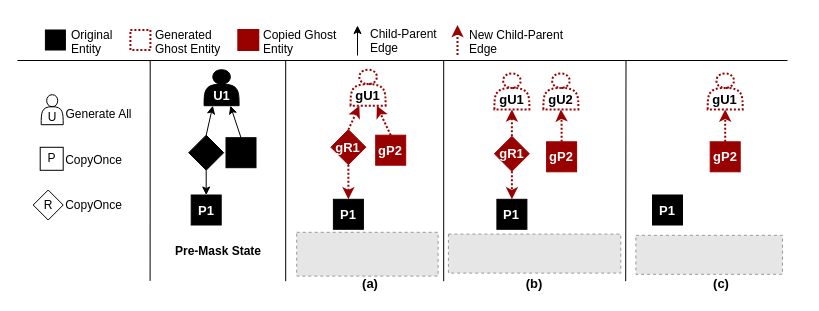
The diagram is 819 pixels wide and 311 high, and some of its shapes have lost their labels. Grey dashed boxes stand in for pictures. Here are the shapes that lost their labels. From the top down, the box of each, then its label:
(188, 134, 224, 170): R1
(225, 137, 256, 168): P2
